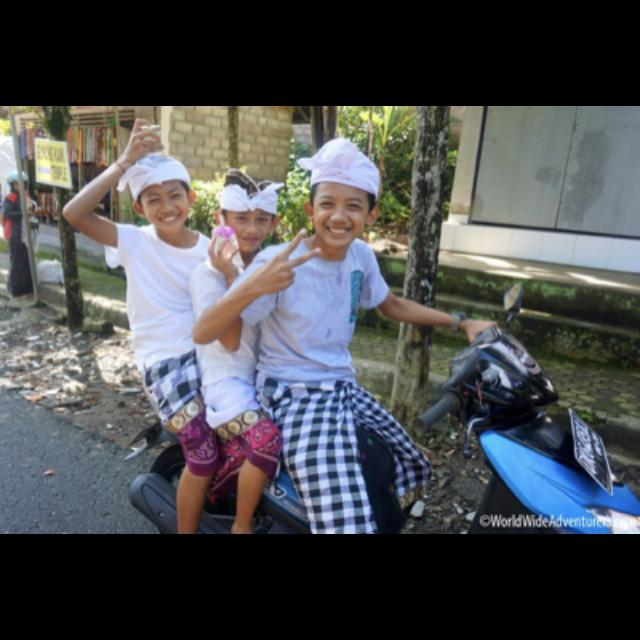Without Helmet: (294, 129, 386, 255)
